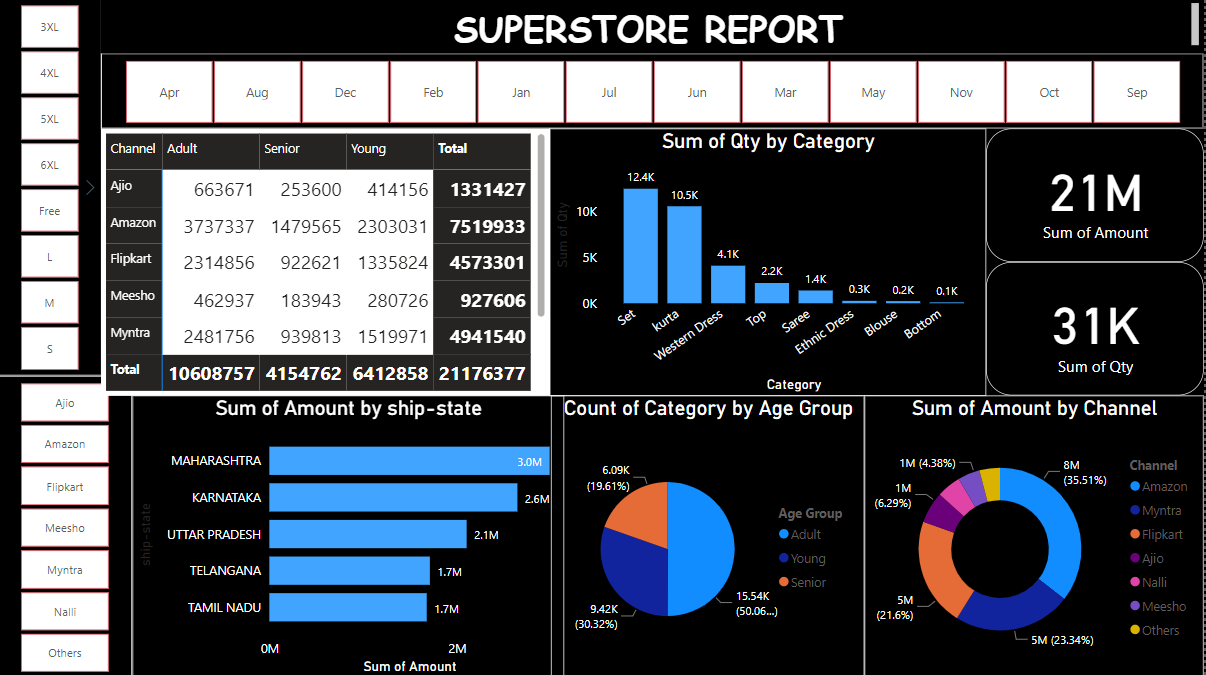

What the dashboard file says about the page in this screenshot:
{"tool":"powerbi","page":{"name":"Page 1","canvas":[1280,720],"ordinal":0},"visuals":[{"type":"slicer","fields":{"Values":["Sheet1.Size"]},"box":[0,0,111.7,400],"z":0},{"type":"slicer","fields":{"Values":["Sheet1.Channel "]},"box":[0,400,144,320],"z":1000},{"type":"donutChart","fields":{"Category":["Sheet1.Channel "],"Y":["Sum(Sheet1.Amount)"]},"box":[920.3,421.2,359.2,298.8],"z":2000},{"type":"clusteredColumnChart","fields":{"Category":["Sheet1.Category"],"Y":["Sum(Sheet1.Qty)"]},"box":[587.1,137.8,462.5,283.2],"z":3000},{"type":"card","fields":{"Values":["Sum(Sheet1.Amount)"]},"box":[1049,138.3,230.5,141.5],"z":4000},{"type":"pieChart","fields":{"Category":["Sheet1.Age Group"],"Y":["CountNonNull(Sheet1.Category)"]},"box":[588.1,421.2,332.2,298.8],"z":5000},{"type":"slicer","title":"FILTER BY MONTH","fields":{"Values":["Sheet1.Month"]},"box":[111.3,58.8,1168.2,79.5],"z":6000},{"type":"card","fields":{"Values":["Sum(Sheet1.Qty)"]},"box":[1049,279.7,230.5,141.5],"z":7000},{"type":"textbox","box":[111.7,0,1168.3,58.3],"z":8000},{"type":"pivotTable","fields":{"Values":["Sum(Sheet1.Amount)"],"Rows":["Sheet1.Channel "],"Columns":["Sheet1.Age Group"]},"box":[111,137.8,475.8,283],"z":9000},{"type":"barChart","fields":{"Category":["Sheet1.ship-state"],"Y":["Sum(Sheet1.Amount)"]},"box":[144,421,457,299],"z":10000}]}

Visuals, with their boxes on the page's 1280x720 design canvas (x1, y1, x2, y2). These are canvas units, not pixel positions in the 1206x675 screenshot, which may show the page scaled, cropped or inside an application window:
slicer - Sheet1.Size: [0, 0, 112, 400]
slicer - Sheet1.Channel : [0, 400, 144, 720]
donutChart - Sheet1.Channel  x Sum(Sheet1.Amount): [920, 421, 1280, 720]
clusteredColumnChart - Sheet1.Category x Sum(Sheet1.Qty): [587, 138, 1050, 421]
card - Sum(Sheet1.Amount): [1049, 138, 1280, 280]
pieChart - Sheet1.Age Group x CountNonNull(Sheet1.Category): [588, 421, 920, 720]
"FILTER BY MONTH" slicer: [111, 59, 1280, 138]
card - Sum(Sheet1.Qty): [1049, 280, 1280, 421]
textbox: [112, 0, 1280, 58]
pivotTable - Sum(Sheet1.Amount) x Sheet1.Channel : [111, 138, 587, 421]
barChart - Sheet1.ship-state x Sum(Sheet1.Amount): [144, 421, 601, 720]
